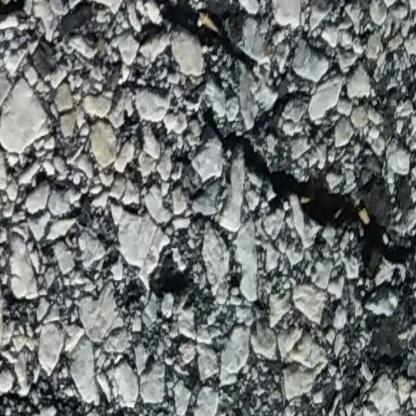Cracks: (204, 109, 416, 281), (130, 0, 255, 69), (0, 0, 45, 41)
